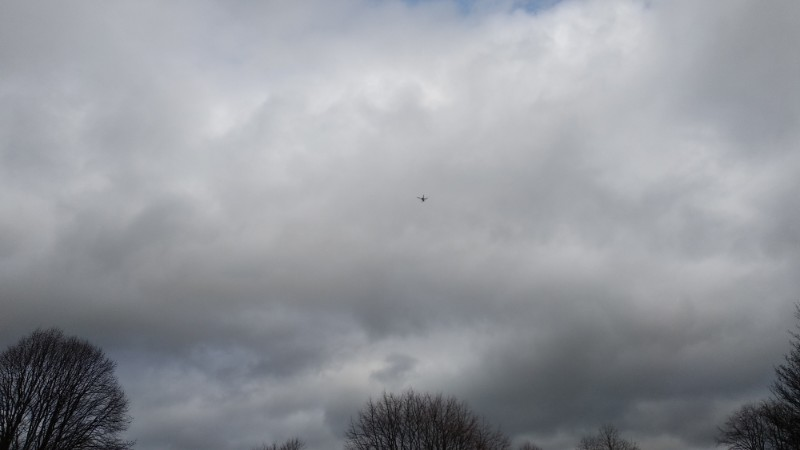drone: (415, 193, 429, 204)
